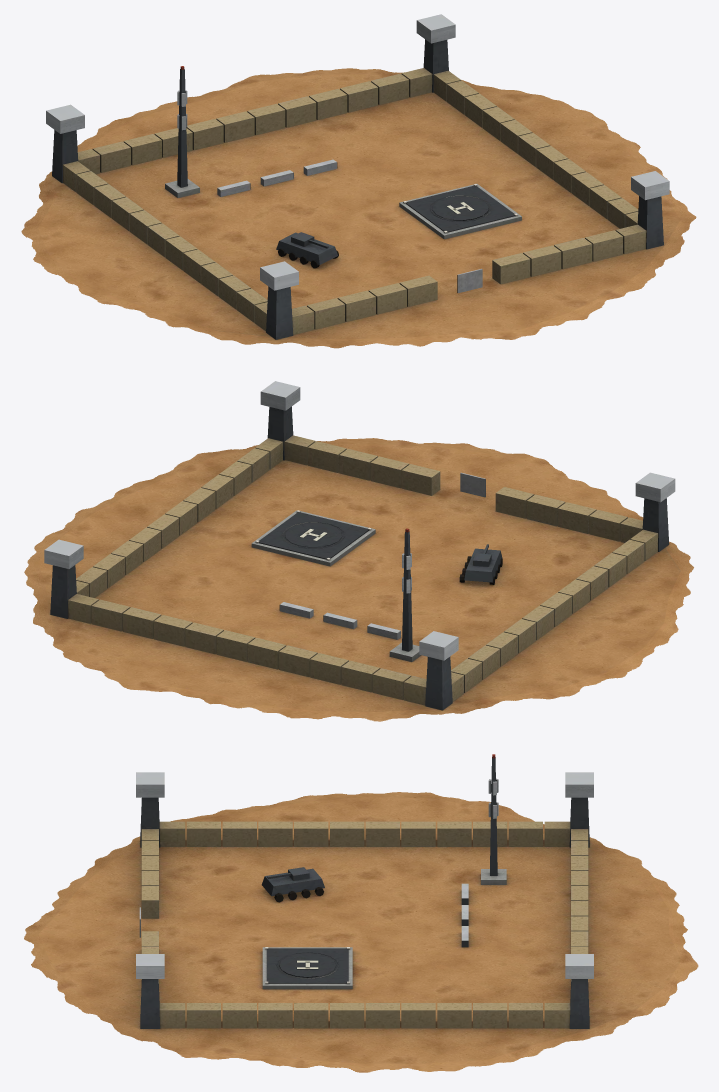
File: fort-information.glb
The picture shows the model from 3 angles, top to bottom: view 1: azimuth 30°, elevation 25°; view 2: azimuth 150°, elevation 25°; view 3: azimuth 270°, elevation 25°; orthographic projection.
Visible parts, largest first — view 1: LOD0; view 2: LOD0; view 3: LOD0.
Boxes of the visible parts, left/top/right/bottom form: LOD0: left=21, top=14, right=696, bottom=348; LOD0: left=24, top=381, right=693, bottom=721; LOD0: left=24, top=754, right=698, bottom=1072.
Size of what is drawn, in the model's own units: 4.74 by 0.9901 by 4.83.
Materials: 3 (3 with a texture image).
